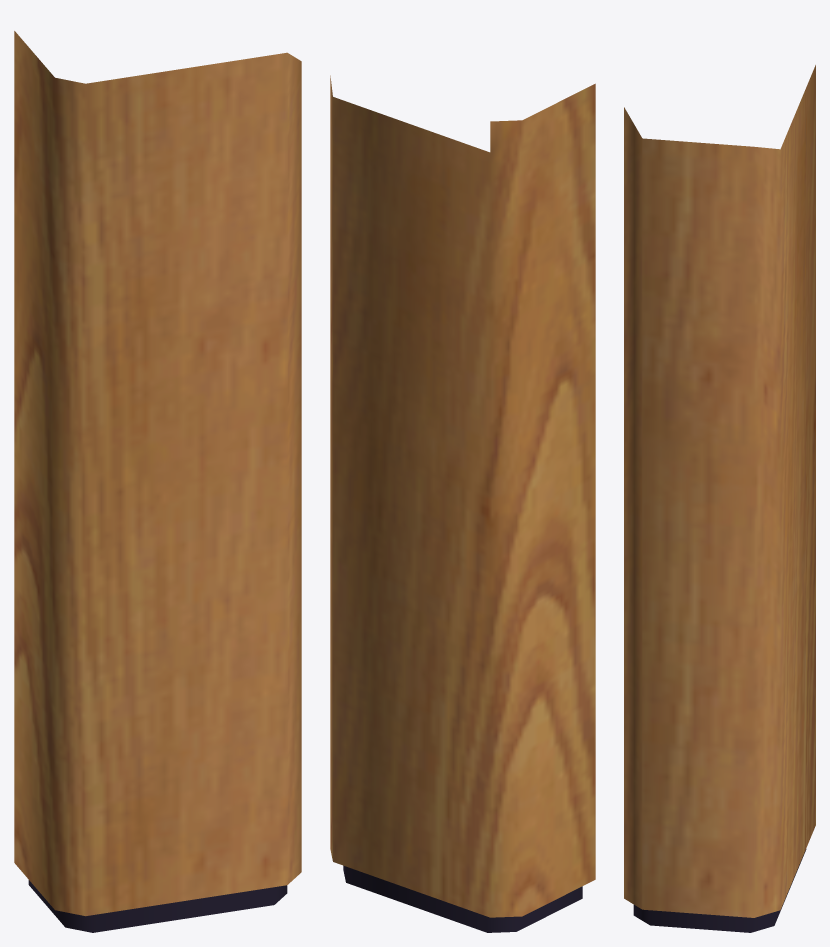
The picture shows the model from 3 angles, left to right: view 1: azimuth 30°, elevation 25°; view 2: azimuth 150°, elevation 25°; view 3: azimuth 270°, elevation 25°; orthographic projection. The views are drawn at different scales.
Parts seen in each view (by area): view 1: Joint_0_Object_0, Joint_0_Object_1; view 2: Joint_0_Object_0, Joint_0_Object_1; view 3: Joint_0_Object_0, Joint_0_Object_1.
Boxes of the visible parts, x1,y1,x2,y2 form: Joint_0_Object_0: (14, 31, 301, 916); Joint_0_Object_1: (28, 880, 287, 932); Joint_0_Object_0: (330, 75, 595, 917); Joint_0_Object_1: (343, 865, 582, 932); Joint_0_Object_0: (624, 65, 815, 917); Joint_0_Object_1: (633, 849, 806, 932).
Size of the model in its own units: 117 by 395 by 84.56.
2 materials, 2 textured.
